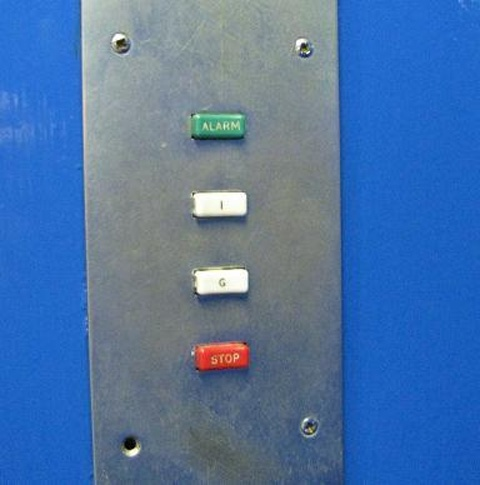1: (191, 189, 248, 220)
G: (191, 265, 250, 296)
text_alarm: (190, 112, 246, 140)
text_stop: (192, 341, 251, 372)
